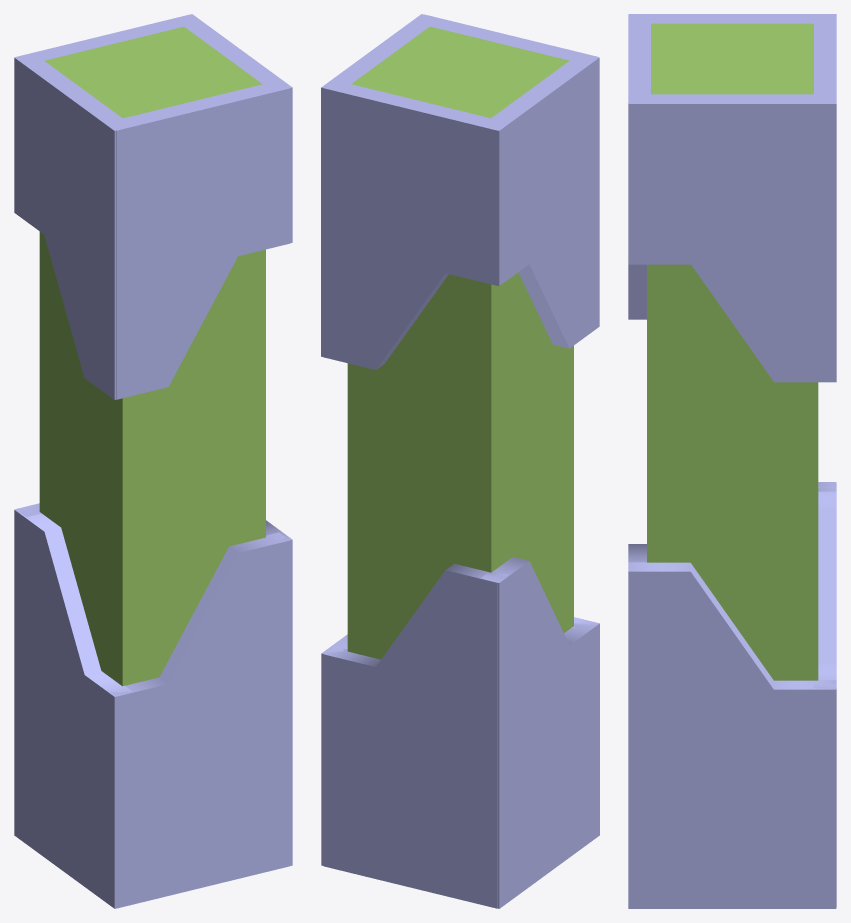
File: U_gebouw3.fbx
The picture shows the model from 3 angles, left to right: view 1: azimuth 30°, elevation 25°; view 2: azimuth 150°, elevation 25°; view 3: azimuth 270°, elevation 25°; orthographic projection. The views are drawn at different scales.
Parts seen in each view (by area): view 1: pCube8, pCube1; view 2: pCube8, pCube1; view 3: pCube8, pCube1.
Boxes of the visible parts, bbox=[...] form: pCube8: bbox=[14, 14, 292, 908]; pCube1: bbox=[39, 26, 265, 686]; pCube8: bbox=[321, 14, 599, 908]; pCube1: bbox=[347, 26, 573, 659]; pCube8: bbox=[628, 14, 836, 908]; pCube1: bbox=[647, 23, 818, 680].
Bounding box in the file's own units: 5.27 × 22 × 5.17.
